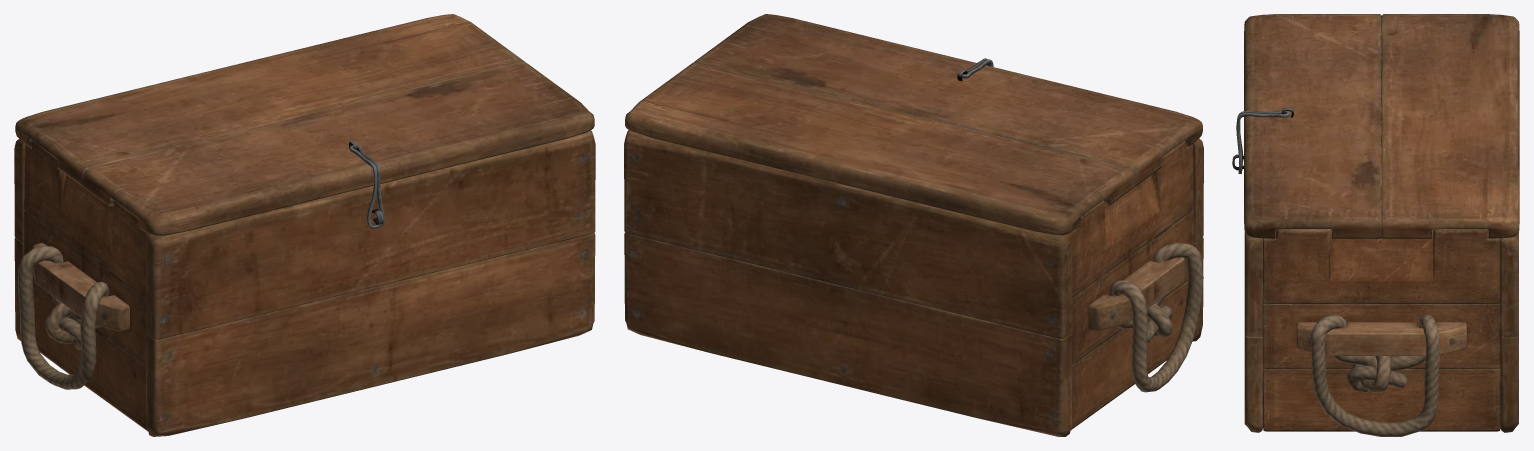
The picture shows the model from 3 angles, left to right: view 1: azimuth 30°, elevation 25°; view 2: azimuth 150°, elevation 25°; view 3: azimuth 270°, elevation 25°; orthographic projection. The views are drawn at different scales.
Parts seen in each view (by area): view 1: wooden_crate_01_lid; view 2: wooden_crate_01_lid; view 3: wooden_crate_01_lid.
Boxes of the visible parts, x1,y1,x2,y2 form: wooden_crate_01_lid: (14,14,595,436); wooden_crate_01_lid: (624,14,1203,436); wooden_crate_01_lid: (1232,14,1519,436).
Bounding box in the file's own units: 0.8253 × 0.3496 × 0.4089.
1 material, 1 textured.
